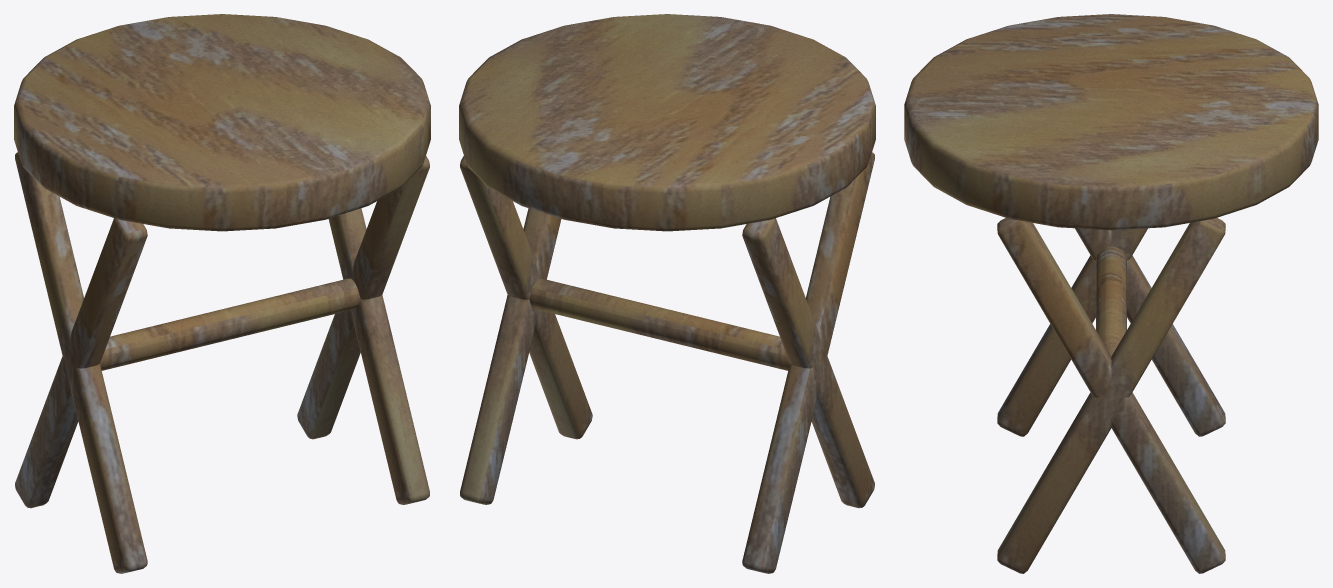
Rendered from Antique_Chair_17.fbx.
3 views of the same model, side by side, from view 1: azimuth 30°, elevation 25°; view 2: azimuth 150°, elevation 25°; view 3: azimuth 270°, elevation 25° (orthographic).
Visible parts, largest first — view 1: Antique_Chair; view 2: Antique_Chair; view 3: Antique_Chair.
Part boxes in pixels (x1,y1,x2,y2): Antique_Chair: (14,14,430,573); Antique_Chair: (459,14,875,573); Antique_Chair: (904,14,1318,573).
Bounding box in the file's own units: 0.4876 × 0.5229 × 0.4876.
Materials: 1 (1 with a texture image).
